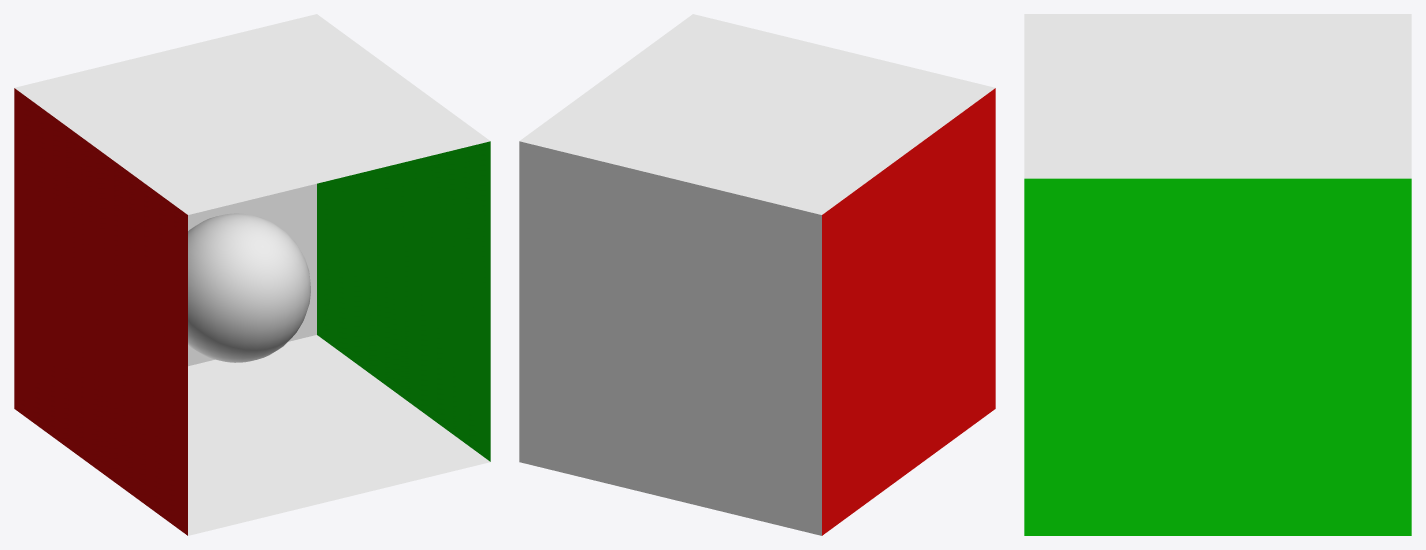
3 views of the same model, side by side, from view 1: azimuth 30°, elevation 25°; view 2: azimuth 150°, elevation 25°; view 3: azimuth 270°, elevation 25° (orthographic). The views are drawn at different scales.
Parts seen in each view (by area): view 1: Box002, Sphere001; view 2: Box002; view 3: Box002.
Boxes of the visible parts, <box> form: Box002: <box>14,14,490,535</box>; Sphere001: <box>188,213,310,362</box>; Box002: <box>519,14,995,535</box>; Box002: <box>1024,14,1411,535</box>.
Bounding box in the file's own units: 5.52 × 5.59 × 5.49.
